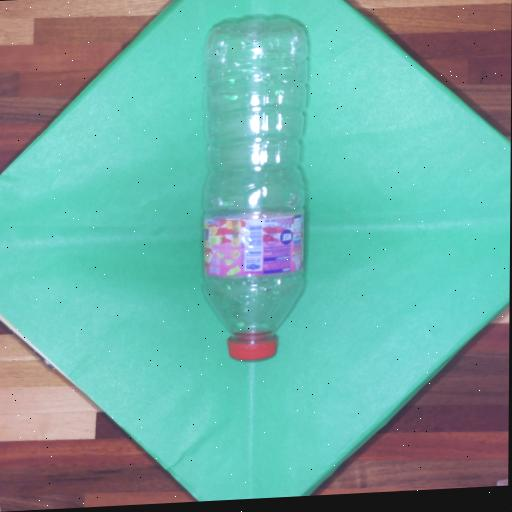bottle: (185, 0, 324, 375)
